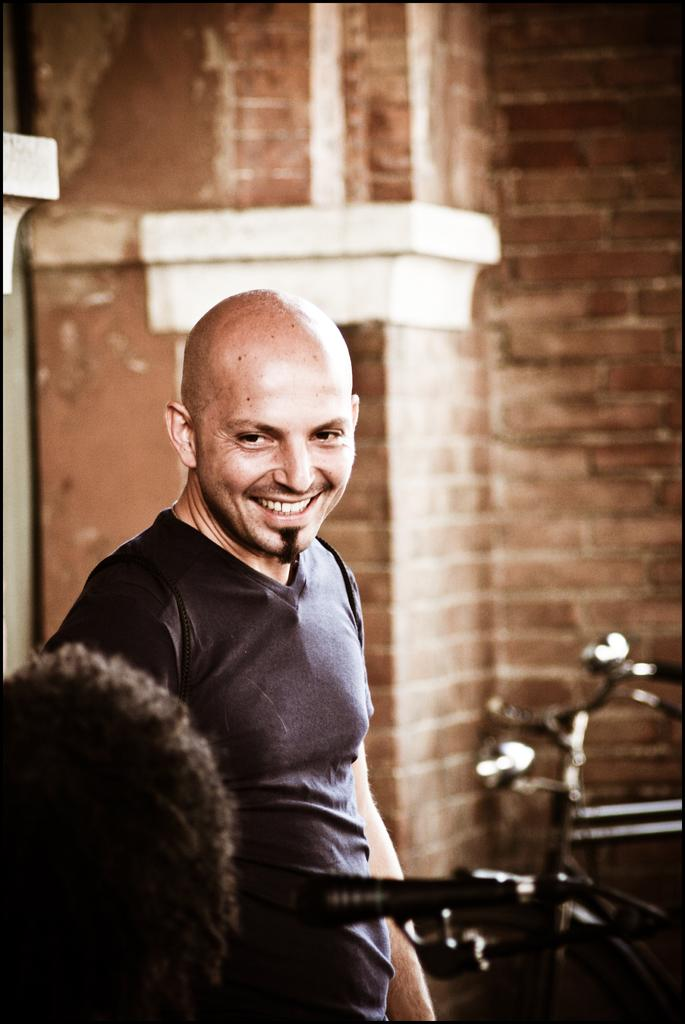Sem Máscara: (195, 340, 358, 562)
